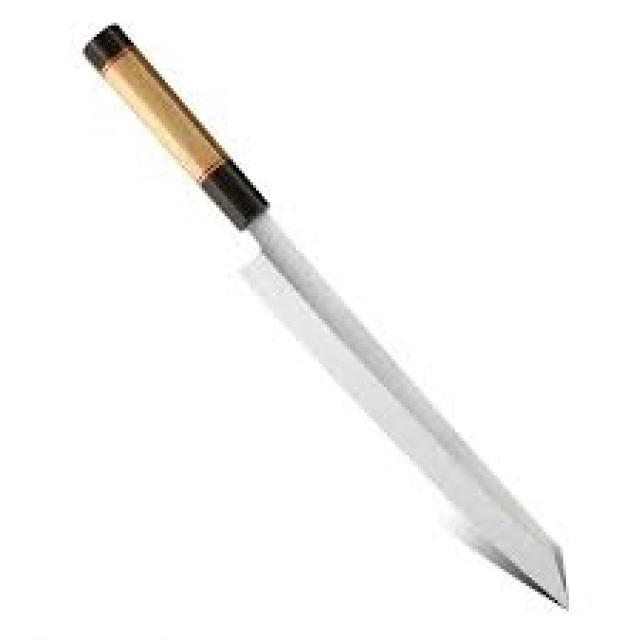Knife: (82, 26, 566, 609)
